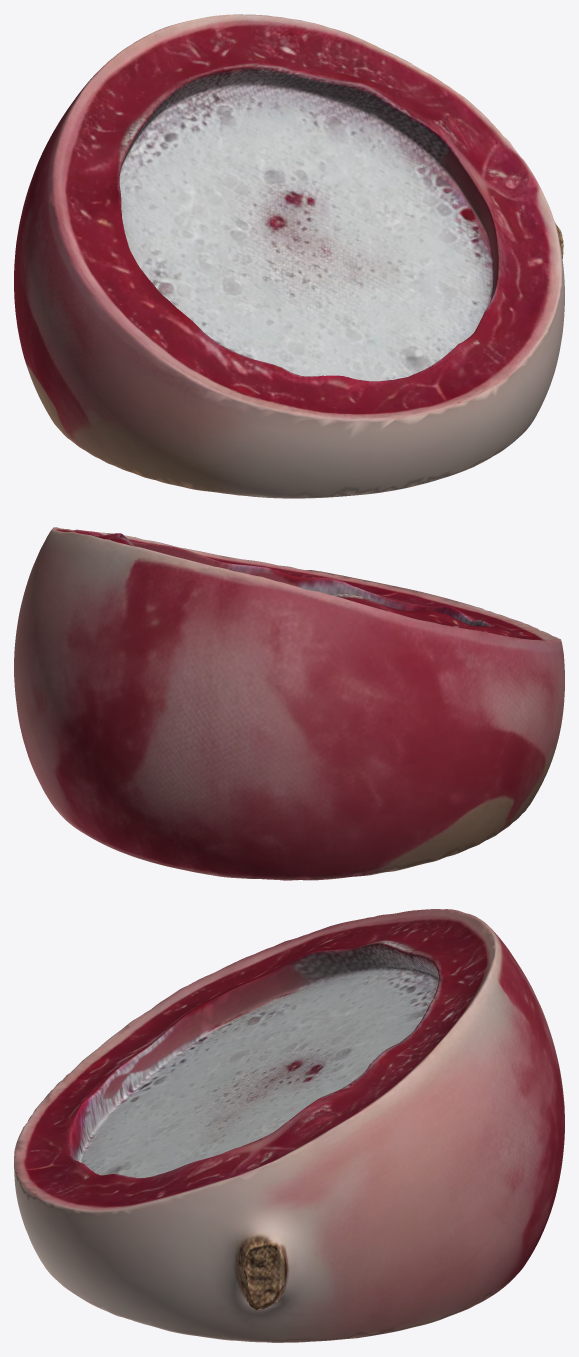
Rendered from vet_v2_path_bloat-rumen.glb.
The picture shows the model from 3 angles, top to bottom: view 1: azimuth 30°, elevation 25°; view 2: azimuth 150°, elevation 25°; view 3: azimuth 270°, elevation 25°; orthographic projection.
Visible parts, largest first — view 1: model; view 2: model; view 3: model.
Part boxes in pixels (<box>): model: <box>14,14,564,498</box>; model: <box>14,527,564,880</box>; model: <box>14,909,564,1342</box>.
Bounding box in the file's own units: 1.9 × 1.08 × 1.85.
Materials: 1 (1 with a texture image).
